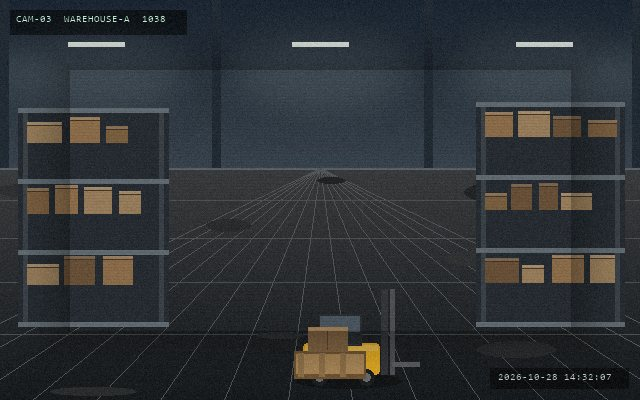forklift: (299, 287, 421, 388)
pallet: (292, 349, 367, 380)
shelf: (476, 102, 624, 322), (18, 108, 168, 322)
